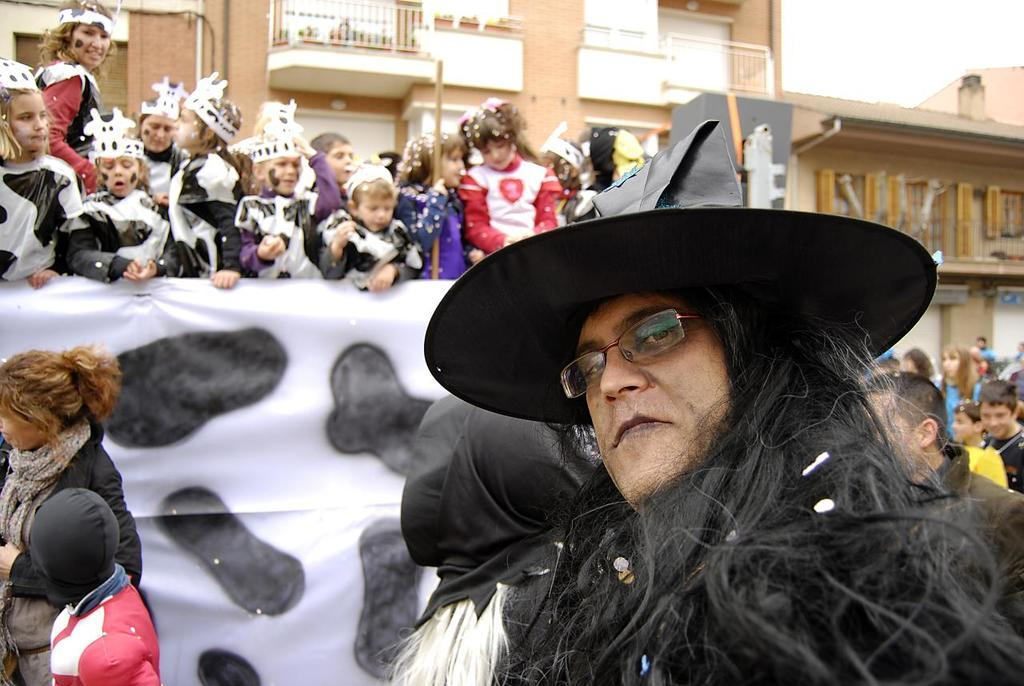Hat: (416, 120, 936, 424)
